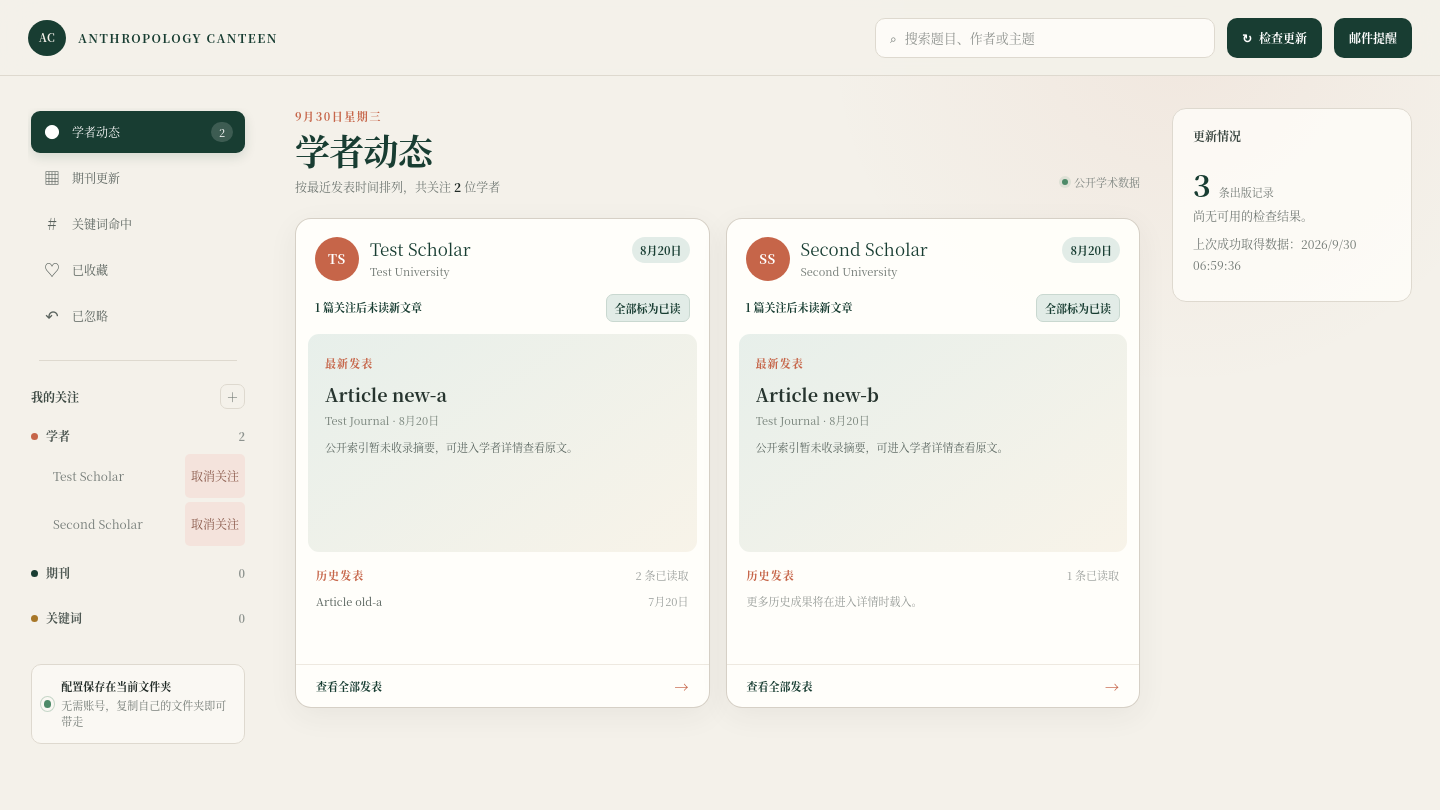
Test case: Slice B navigation and update health › the detail return control and logo share a complete overview reset
The image size is (1440, 810).
Type "Test Scholar" into the field named "搜索文章".
click(1054, 38); type("Test Scholar")  # box top-left (905, 28), bottom-right (1204, 47)
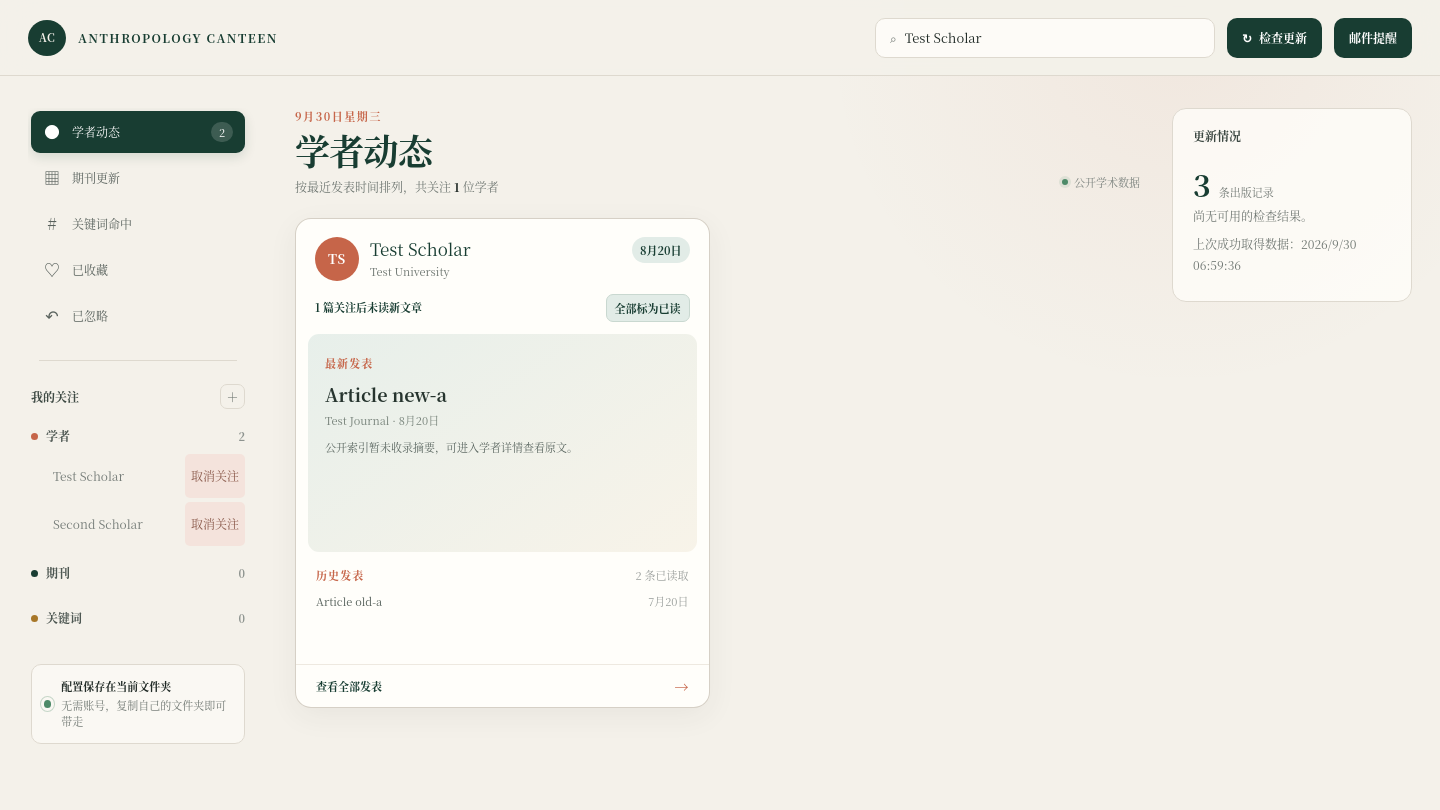
Click the button with aria-label "查看 Test Scholar 的全部发表".
click(349, 686)  # box top-left (296, 665), bottom-right (708, 707)
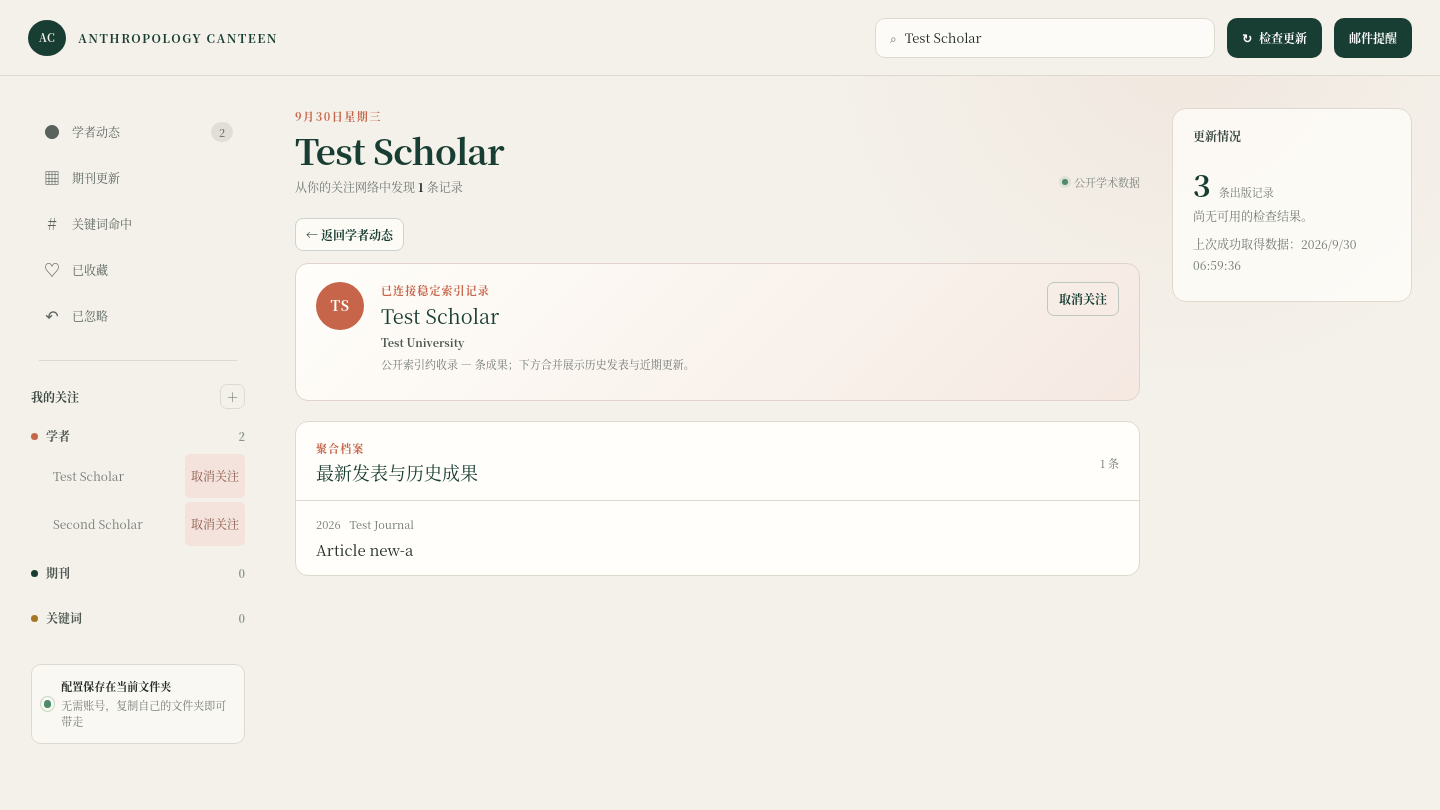
Now the button "← 返回学者动态" is shown
Click the button "← 返回学者动态".
click(350, 234)  # box top-left (295, 218), bottom-right (404, 251)
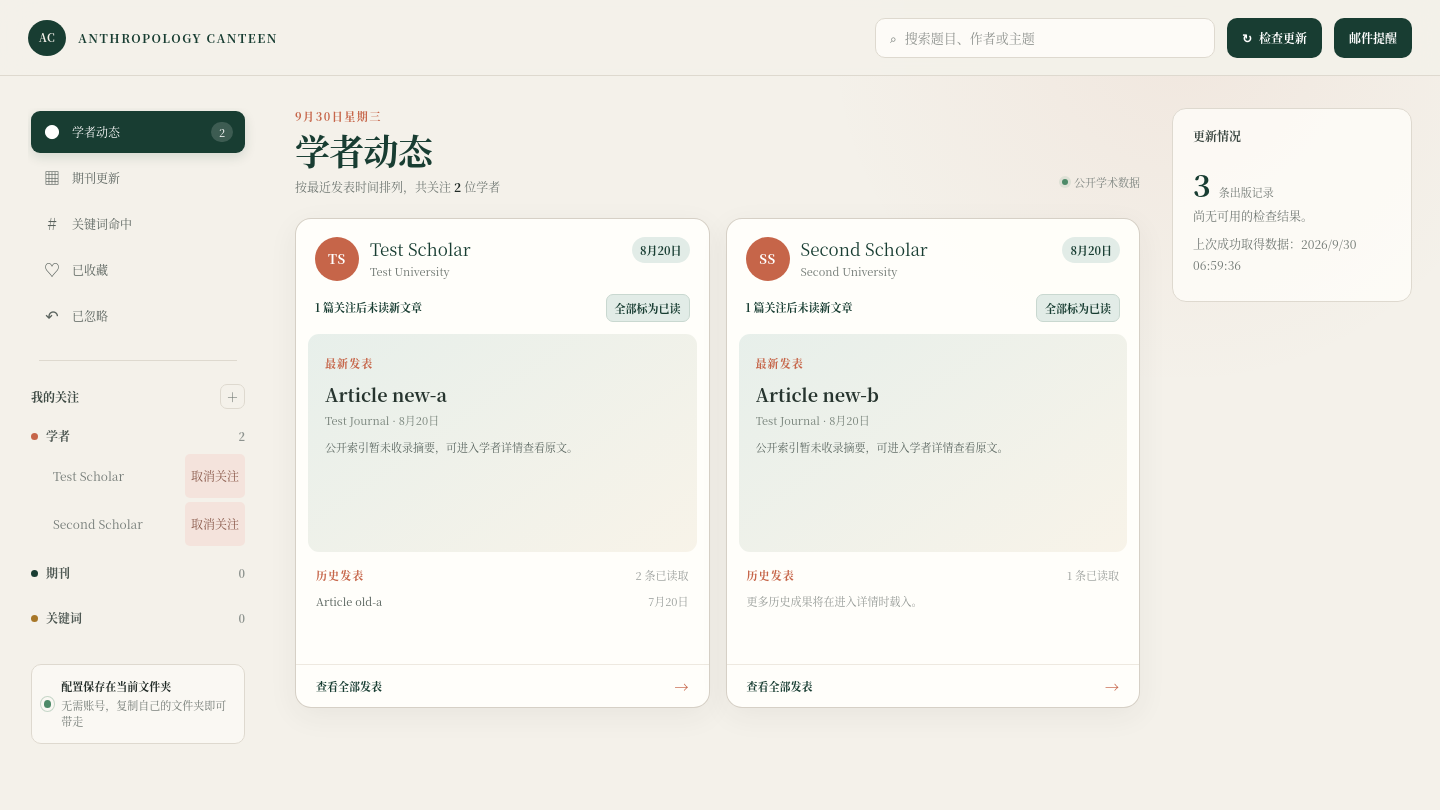
Now the heading "学者动态" is shown, box top-left (295, 124), bottom-right (432, 174)
Now the field named "搜索文章" is empty
Now the button with aria-label "查看 Test Scholar 的全部发表" is shown, box top-left (296, 665), bottom-right (708, 707)
Type "Test Scholar" into the field named "搜索文章".
click(1054, 38); type("Test Scholar")  # box top-left (905, 28), bottom-right (1204, 47)
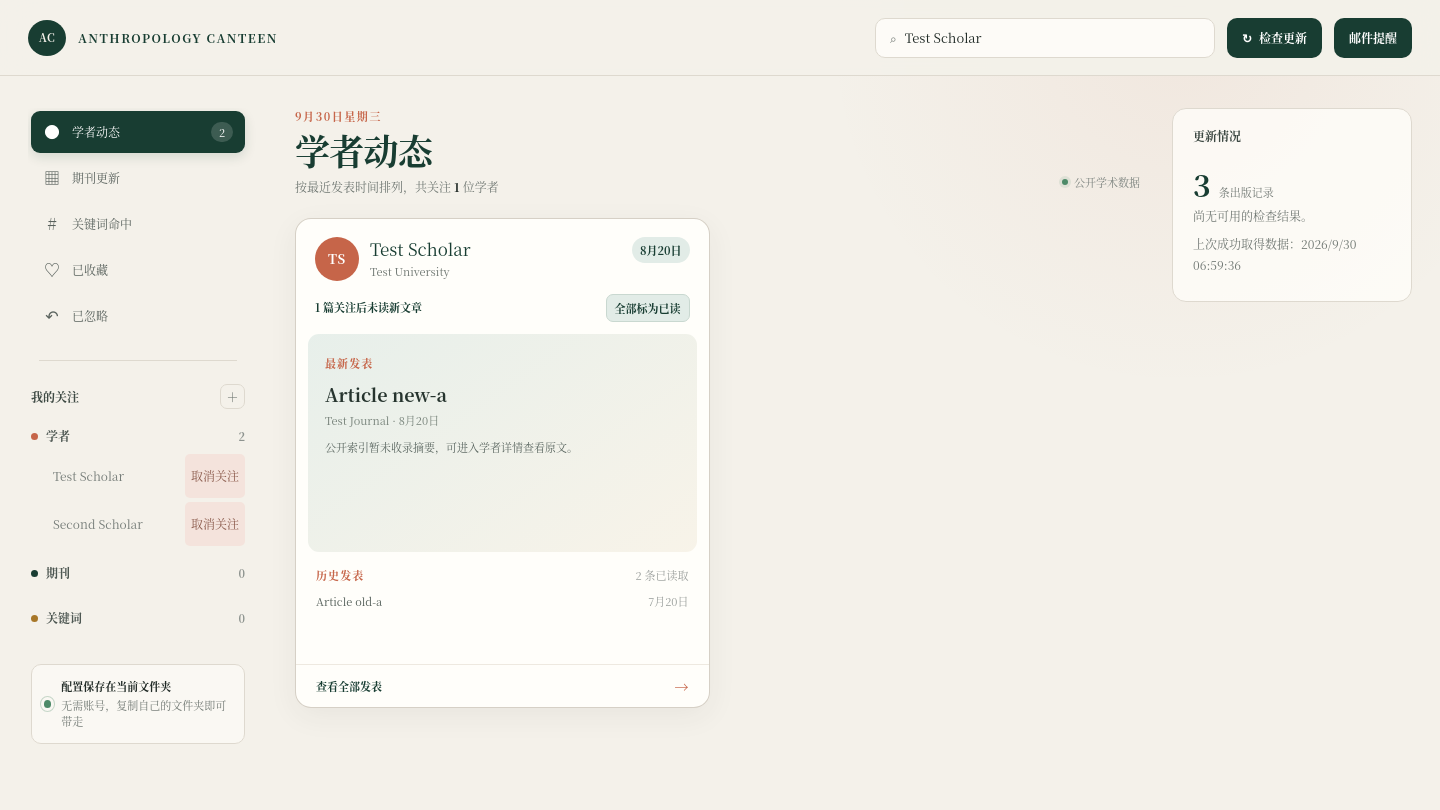
Click the button with aria-label "查看 Test Scholar 的全部发表".
click(349, 686)  # box top-left (296, 665), bottom-right (708, 707)
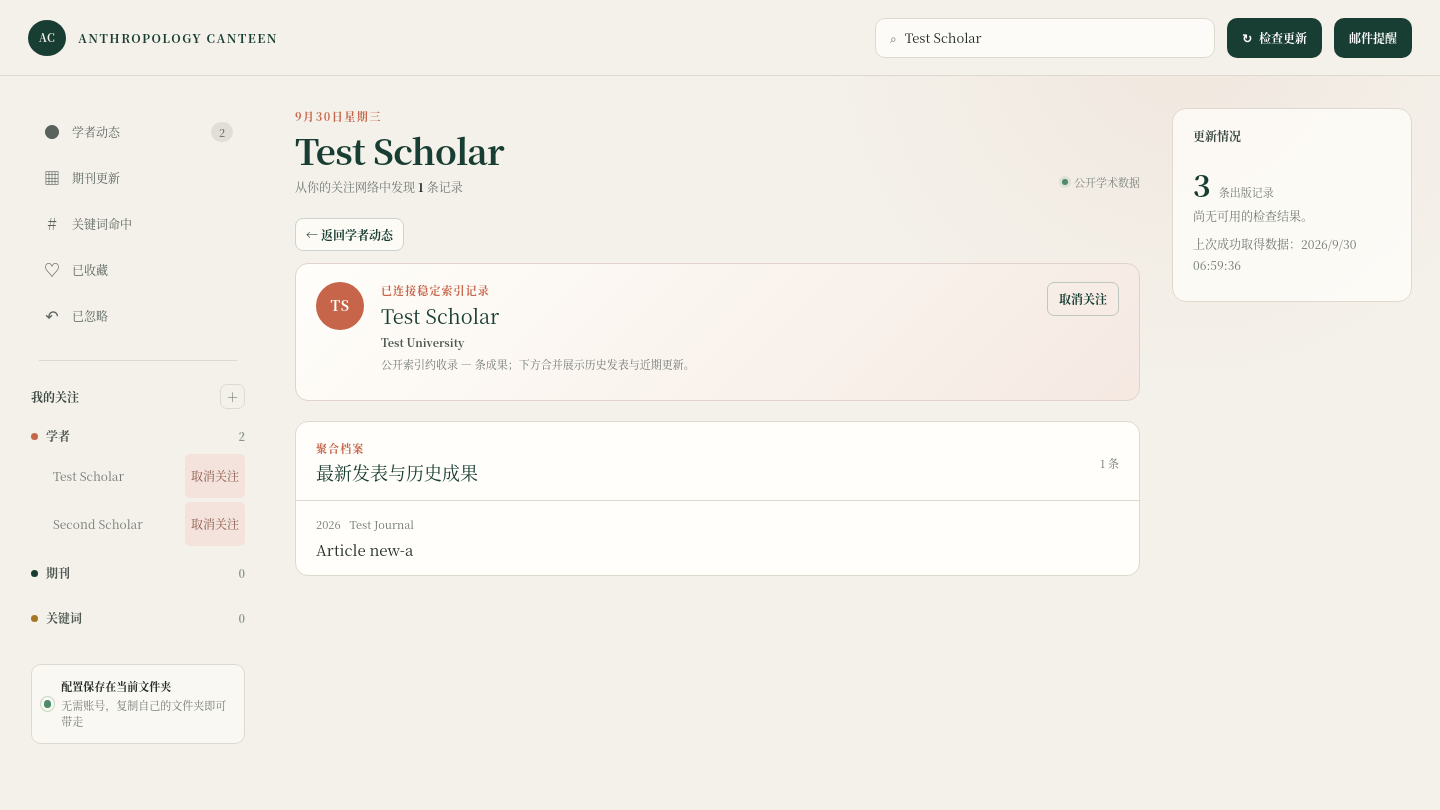
Now the button "← 返回学者动态" is shown, box top-left (295, 218), bottom-right (404, 251)
Click the button with class "brand".
click(153, 38)  # box top-left (28, 20), bottom-right (278, 56)
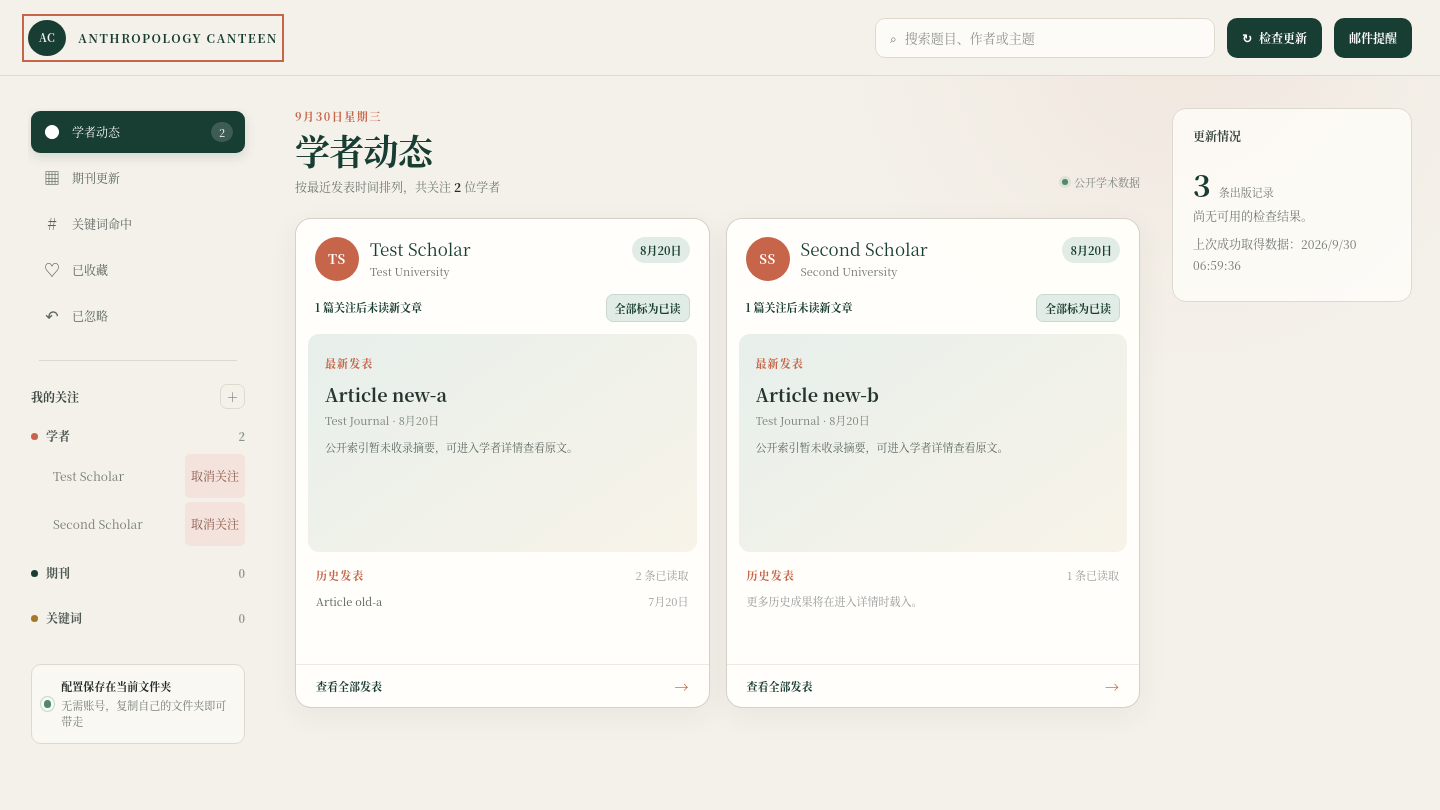
Now the heading "学者动态" is shown, box top-left (295, 124), bottom-right (432, 174)
Now the field named "搜索文章" is empty, box top-left (905, 28), bottom-right (1204, 47)
